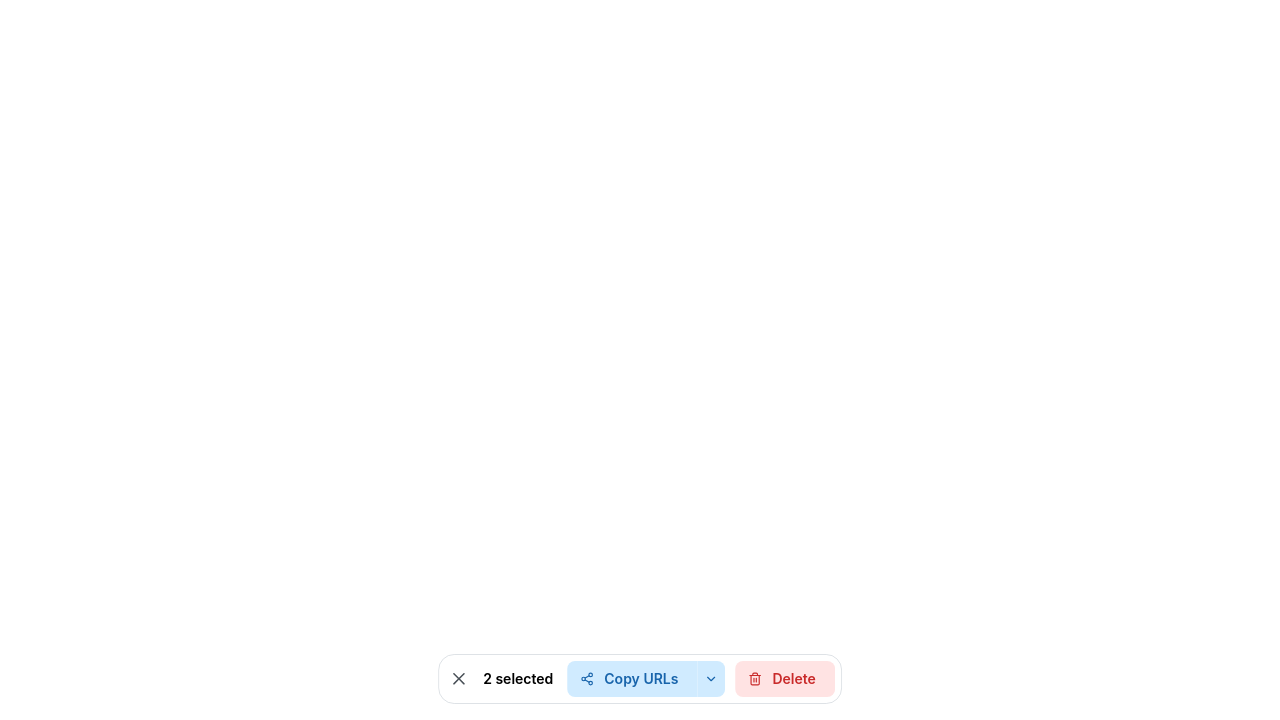
Scenario: BulkActionBar › on Escape closes the TTL popover first and keeps the selection
This screenshot has width=1280, height=720.
// Open the TTL popover via the chevron.
Click the button named "choose link validity" at [711, 679], box [697,661,725,697]
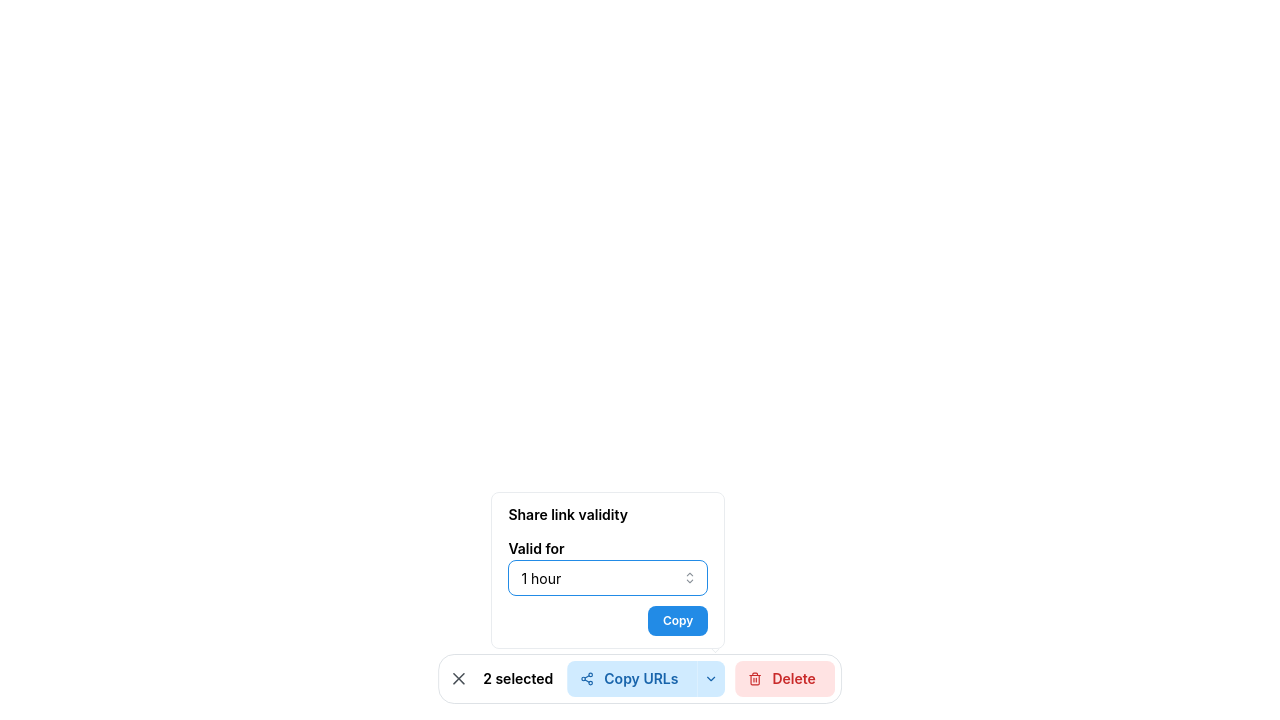
Check: the text "Share link validity" is shown, box [508,506,628,523]
// First Escape dismisses the popover — it must NOT clear the selection.
Press Escape
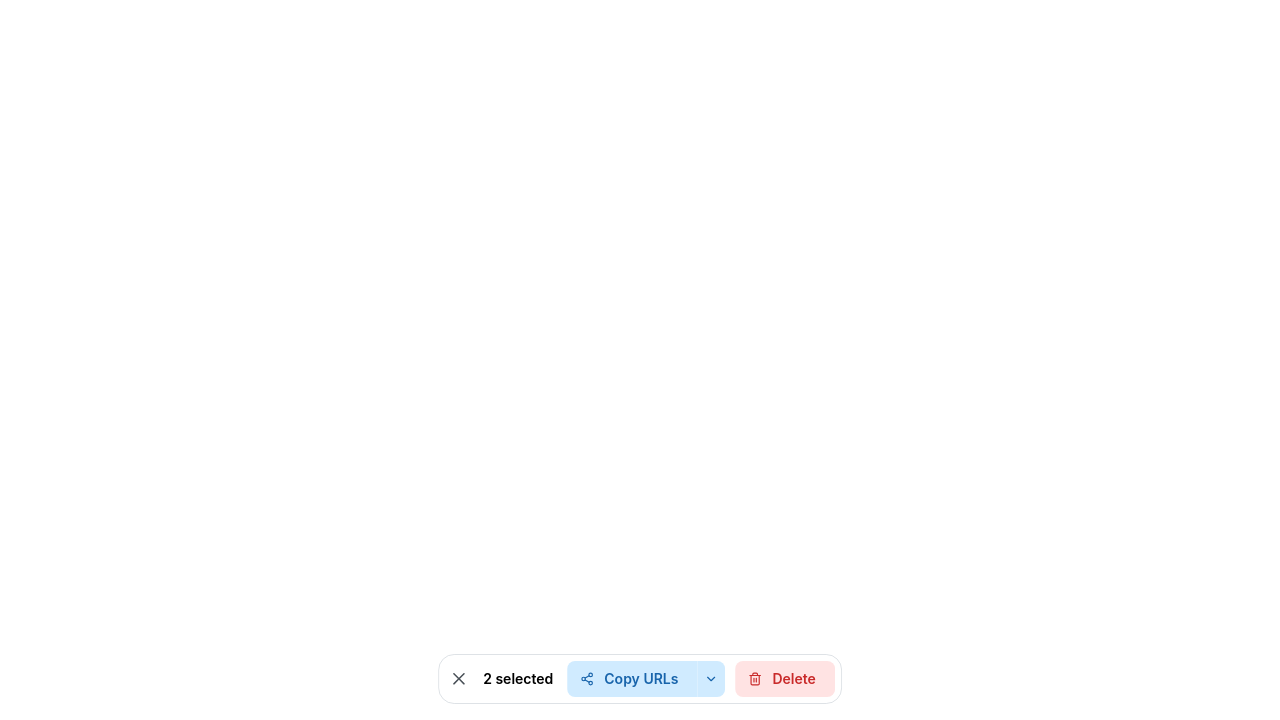
Check: the text "Share link validity" is gone
